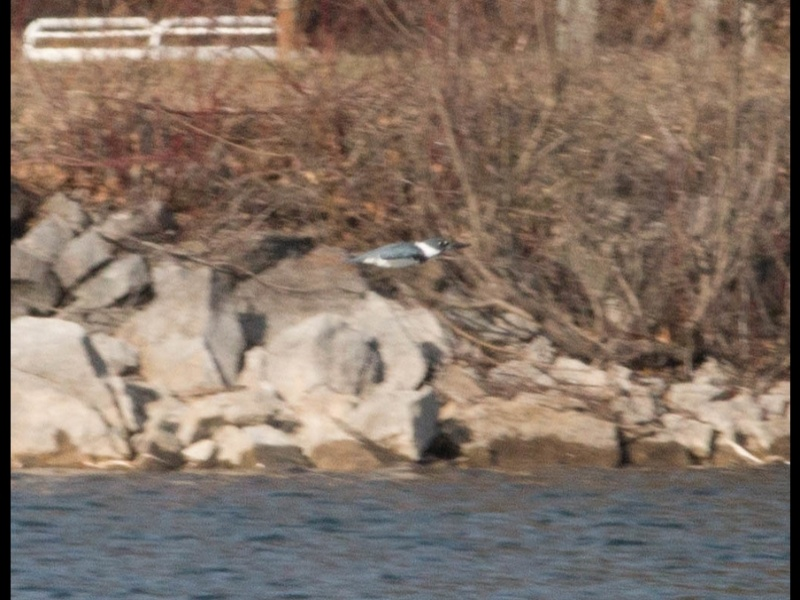kingfisher: (341, 234, 472, 278)
